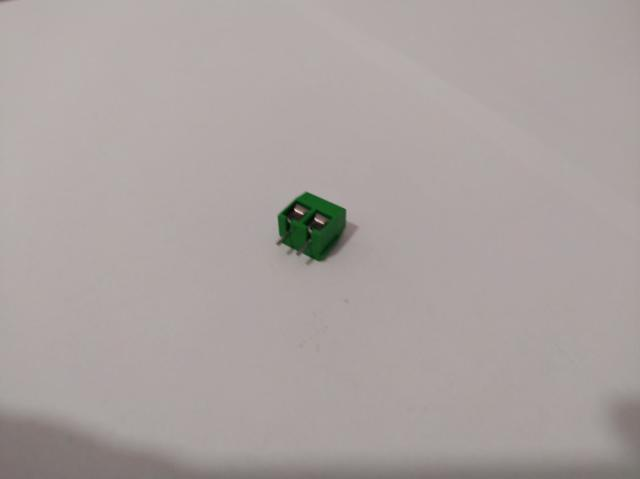terminal_block: (275, 192, 347, 262)
